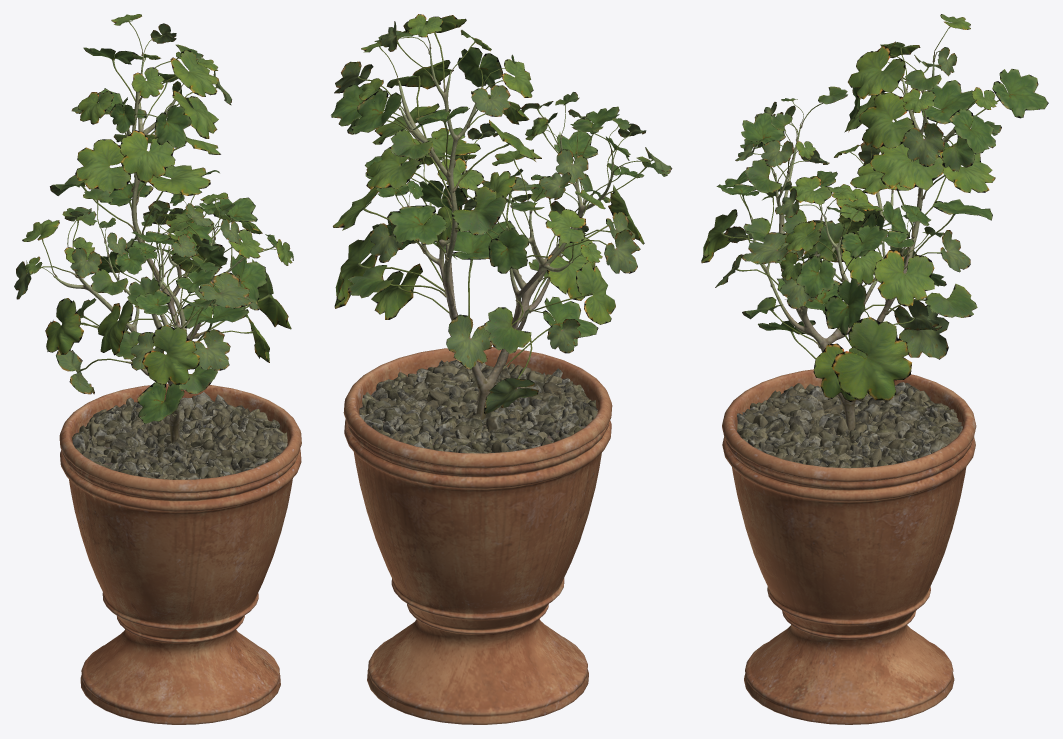
File: potted-plant-web-768.glb
3 renders of one model, left to right at view 1: azimuth 30°, elevation 25°; view 2: azimuth 150°, elevation 25°; view 3: azimuth 270°, elevation 25°, orthographic. The views are drawn at different scales.
Parts seen in each view (by area): view 1: potted_plant_01_pot, potted_plant_01_leaves, potted_plant_01_pebbles, potted_plant_01_stem; view 2: potted_plant_01_pot, potted_plant_01_leaves, potted_plant_01_pebbles, potted_plant_01_stem; view 3: potted_plant_01_leaves, potted_plant_01_pot, potted_plant_01_pebbles, potted_plant_01_stem.
Part boxes in pixels (x1,y1,x2,y2): potted_plant_01_pot: [59, 383, 301, 724]; potted_plant_01_leaves: [14, 14, 293, 423]; potted_plant_01_pebbles: [72, 392, 287, 479]; potted_plant_01_stem: [54, 54, 244, 442]; potted_plant_01_pot: [343, 347, 612, 724]; potted_plant_01_leaves: [331, 14, 672, 414]; potted_plant_01_pebbles: [359, 360, 597, 453]; potted_plant_01_stem: [398, 49, 613, 419]; potted_plant_01_leaves: [701, 14, 1048, 401]; potted_plant_01_pot: [722, 369, 976, 724]; potted_plant_01_pebbles: [737, 382, 962, 467]; potted_plant_01_stem: [753, 55, 967, 431].
Size of the model in its own units: 0.5889 by 1.34 by 0.6366.
Materials: 2 (2 with a texture image).
